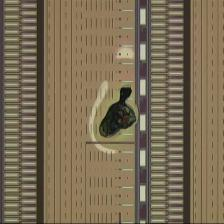PARTICLE: (89, 40, 143, 156)
